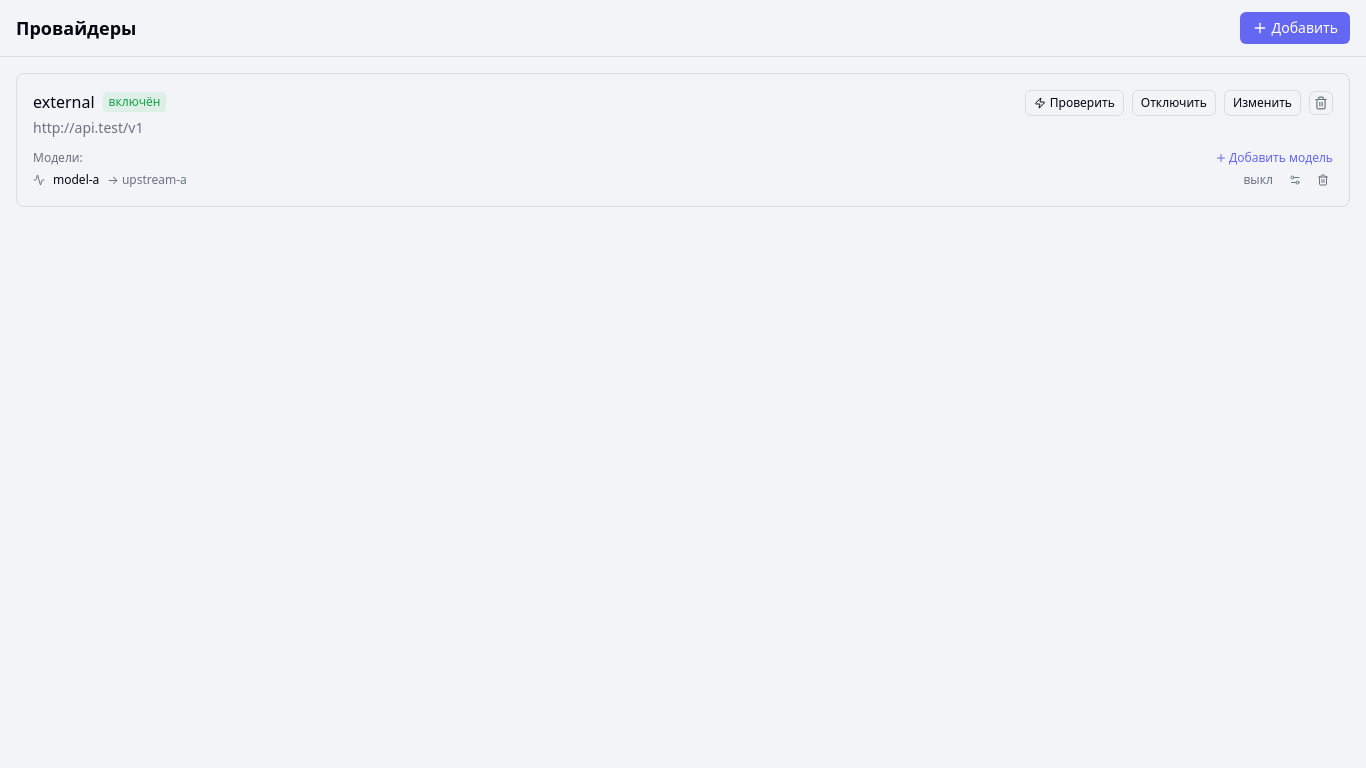
ProvidersPage: удаление модели (T-443, коммит 2) › открывает модалку подтверждения по клику на корзину
The width and height of the screenshot is (1366, 768).
Click the button named "Удалить модель": click(1323, 180) x1=1313 y1=172 x2=1333 y2=188
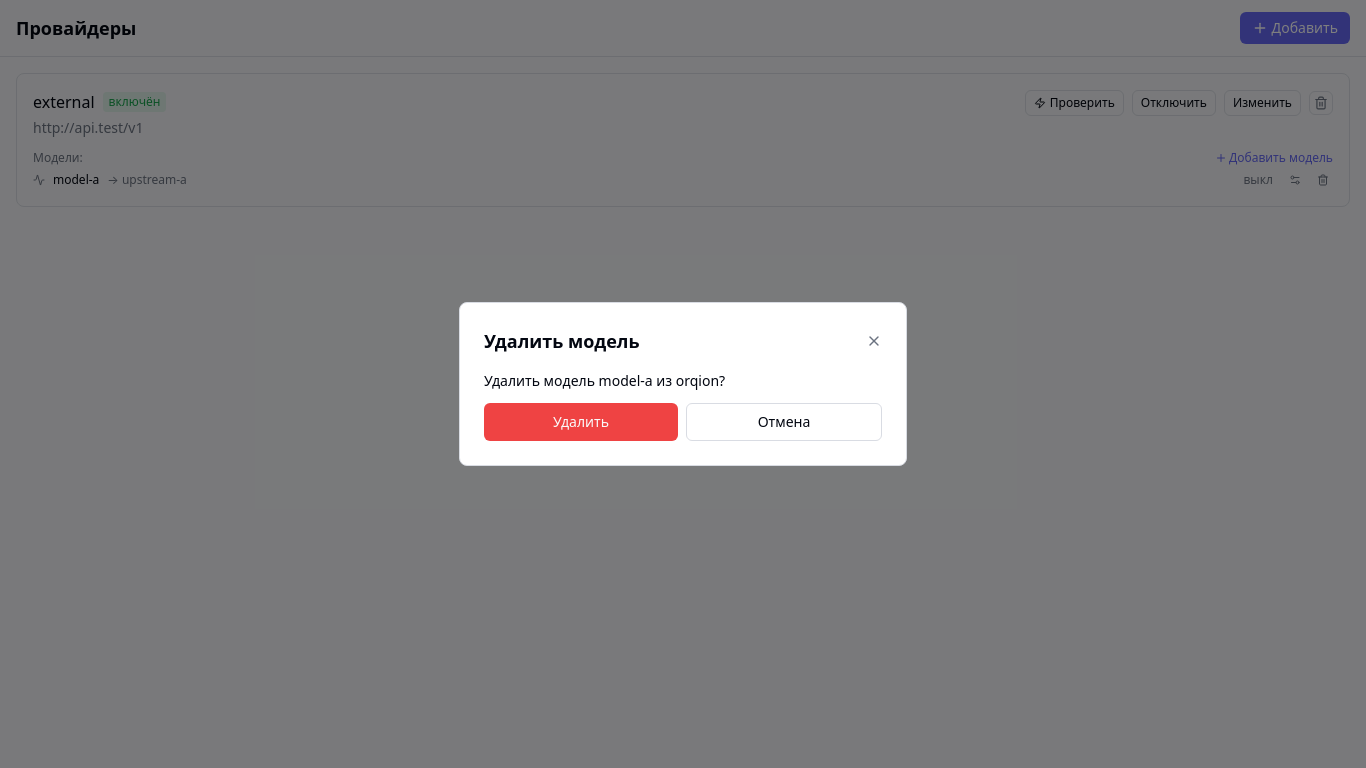
Result: the heading "Удалить модель" is shown at x1=484 y1=327 x2=640 y2=355
Result: the text "Удалить модель model-a из orqion?" is shown at x1=484 y1=371 x2=725 y2=390
